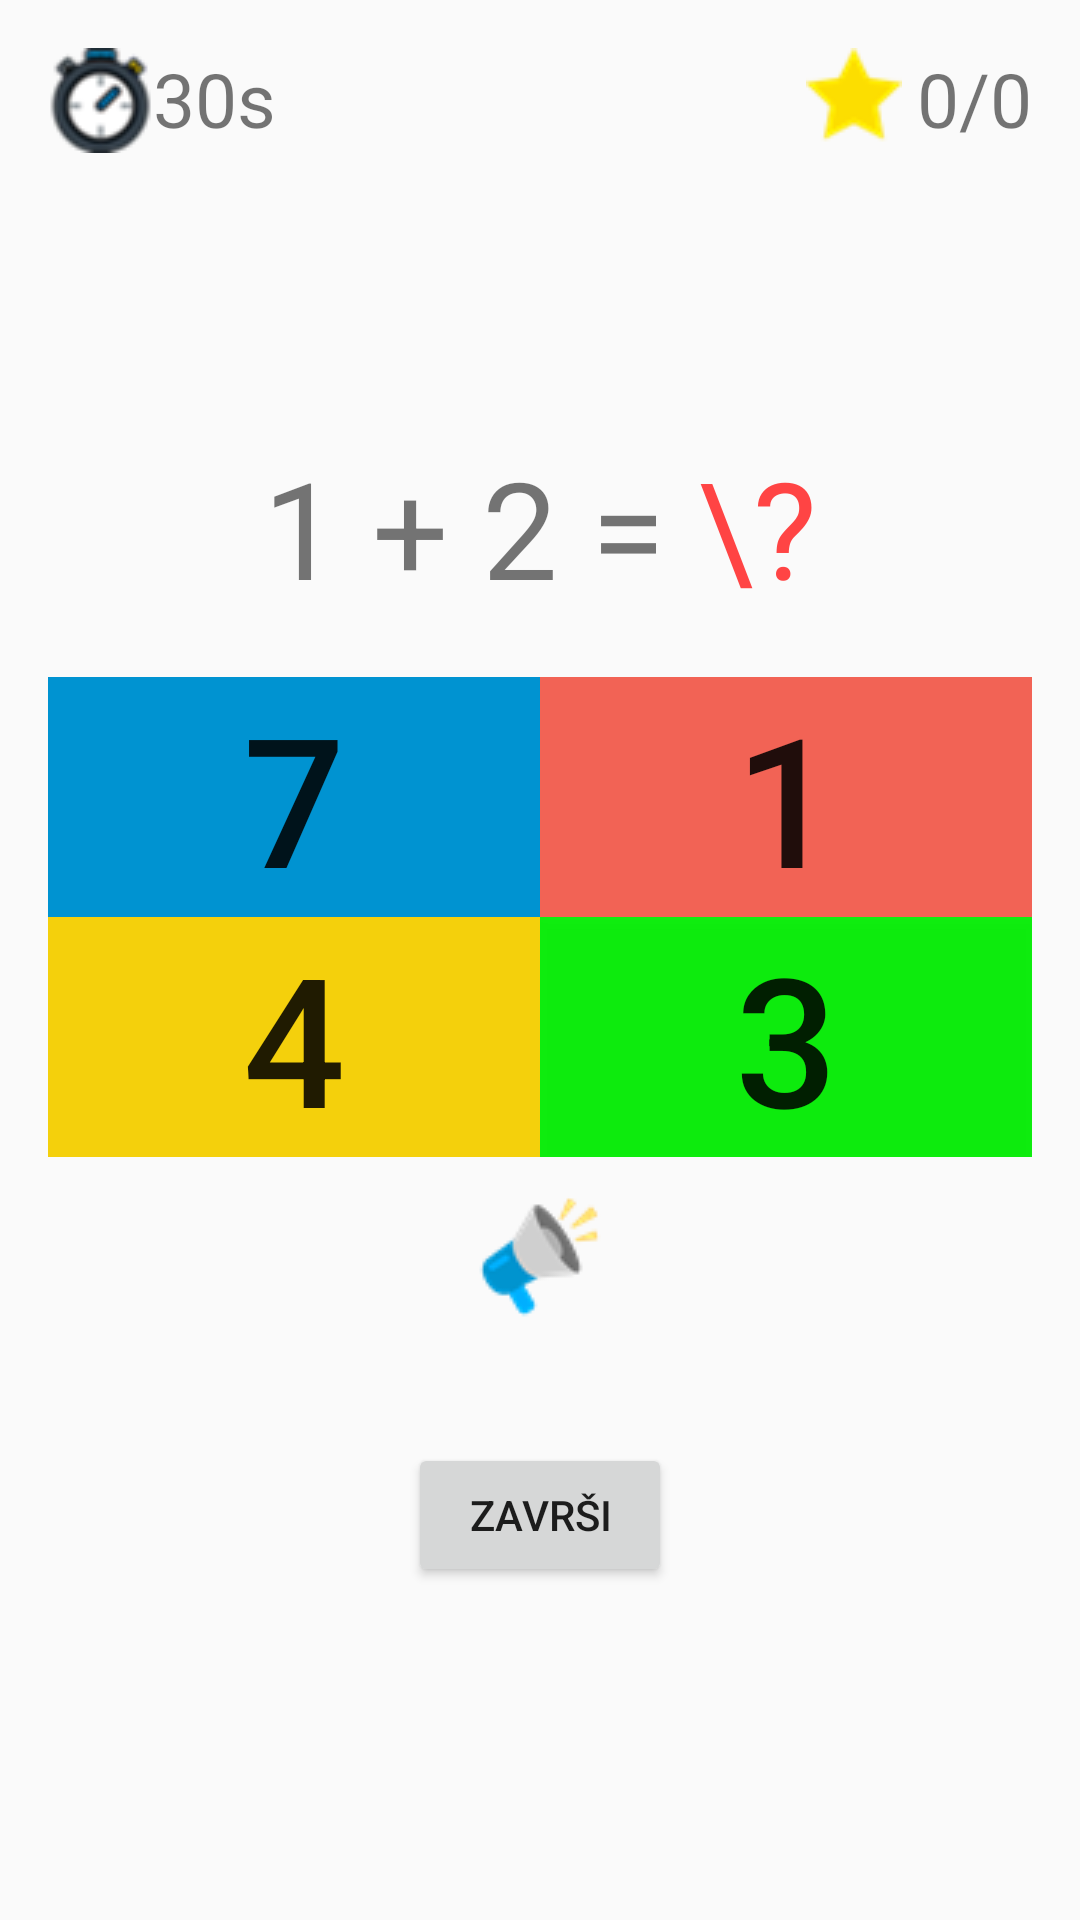

Icons on this 1080 x 1920 Android screen, each with its box as (x1, y1, x2, y2):
loudspeaker: (481, 1198, 598, 1316)
star: (806, 48, 902, 140)
stopwatch: (50, 48, 151, 153)
